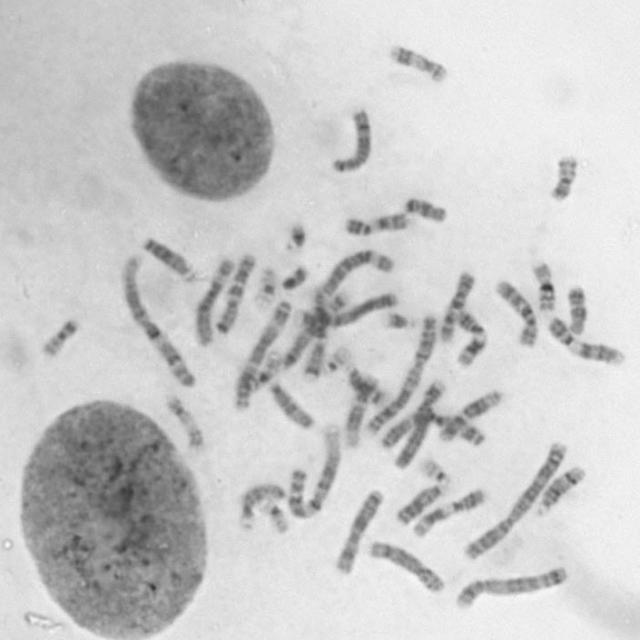A1: (116, 249, 199, 389), (282, 418, 343, 519)
A2: (460, 436, 570, 562), (363, 308, 440, 437)
A3: (229, 294, 294, 412), (373, 406, 489, 452)
B4: (390, 372, 450, 472), (300, 286, 400, 329)
B5: (275, 286, 351, 371), (452, 560, 571, 611)
C10: (491, 273, 541, 348), (436, 266, 476, 344)
C11: (409, 482, 490, 539), (450, 304, 490, 368)
C12: (433, 384, 506, 443), (338, 368, 381, 449)
C6: (309, 242, 396, 303), (191, 253, 236, 348)
C7: (210, 246, 258, 335), (294, 306, 329, 378)
C8: (362, 535, 447, 595), (328, 103, 374, 175)
C9: (542, 311, 627, 367), (340, 206, 413, 238)
D13: (138, 231, 198, 283), (392, 478, 450, 527)
D14: (532, 460, 588, 518), (341, 360, 392, 408)
D15: (234, 478, 288, 532), (264, 376, 317, 431)
E16: (232, 348, 282, 396), (528, 254, 560, 314)
E17: (384, 37, 451, 84), (162, 390, 207, 452)
E18: (400, 191, 450, 224), (562, 280, 590, 336)
F19: (248, 262, 280, 310), (255, 493, 291, 535)
F20: (36, 312, 82, 359), (545, 149, 581, 203)
G21: (278, 216, 310, 254), (380, 306, 418, 332)
G22: (416, 452, 452, 485), (321, 341, 353, 374)
X: (329, 483, 386, 575)
Y: (277, 261, 310, 291)
